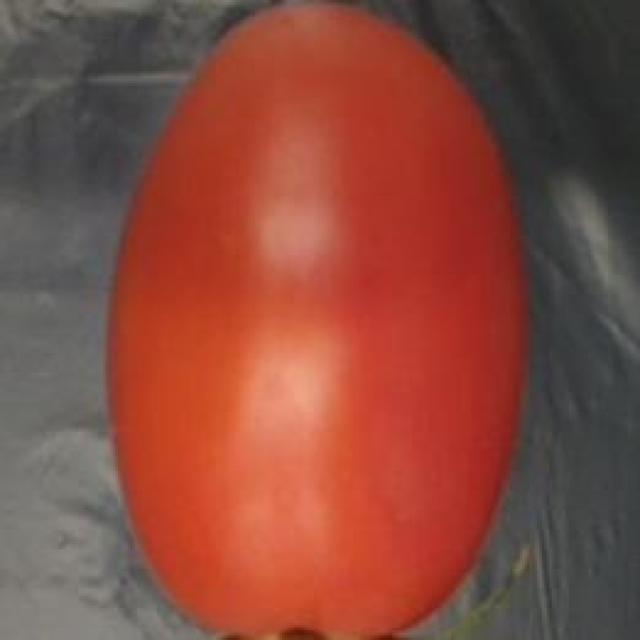ripe tomato: (98, 0, 542, 640)
